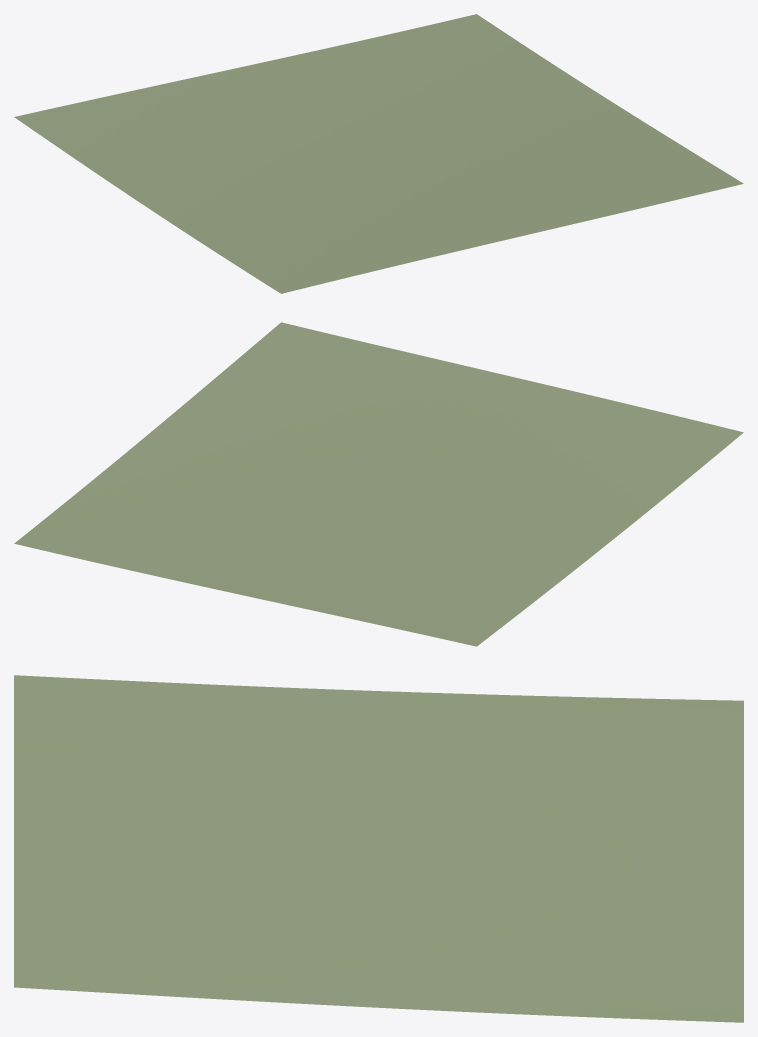
File: expanse-4-8.glb
3 renders of one model, top to bottom at view 1: azimuth 30°, elevation 25°; view 2: azimuth 150°, elevation 25°; view 3: azimuth 270°, elevation 25°, orthographic. The views are drawn at different scales.
Visible parts, largest first — view 1: expanse-4-8; view 2: expanse-4-8; view 3: expanse-4-8.
Boxes of the visible parts, x1,y1,x2,y2 form: expanse-4-8: (14,14,743,293); expanse-4-8: (14,322,743,646); expanse-4-8: (14,675,743,1022).
Bounding box in the file's own units: 256 × 15.18 × 256.
